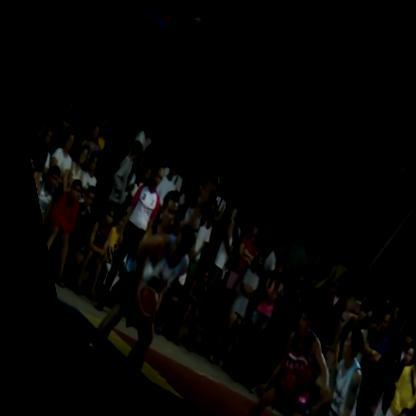basketball: (109, 274, 159, 329)
rim: (131, 9, 207, 45)
